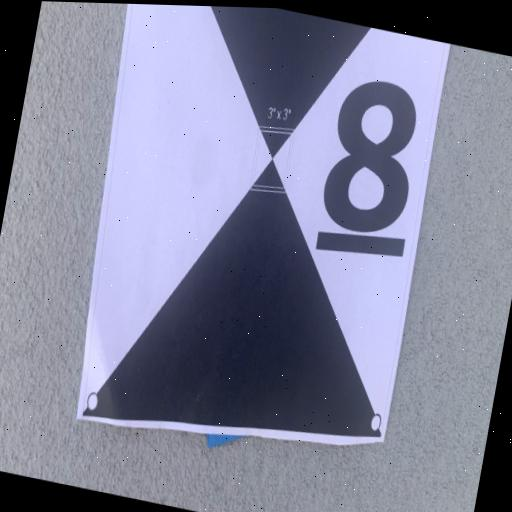target8: (75, 4, 449, 442)
